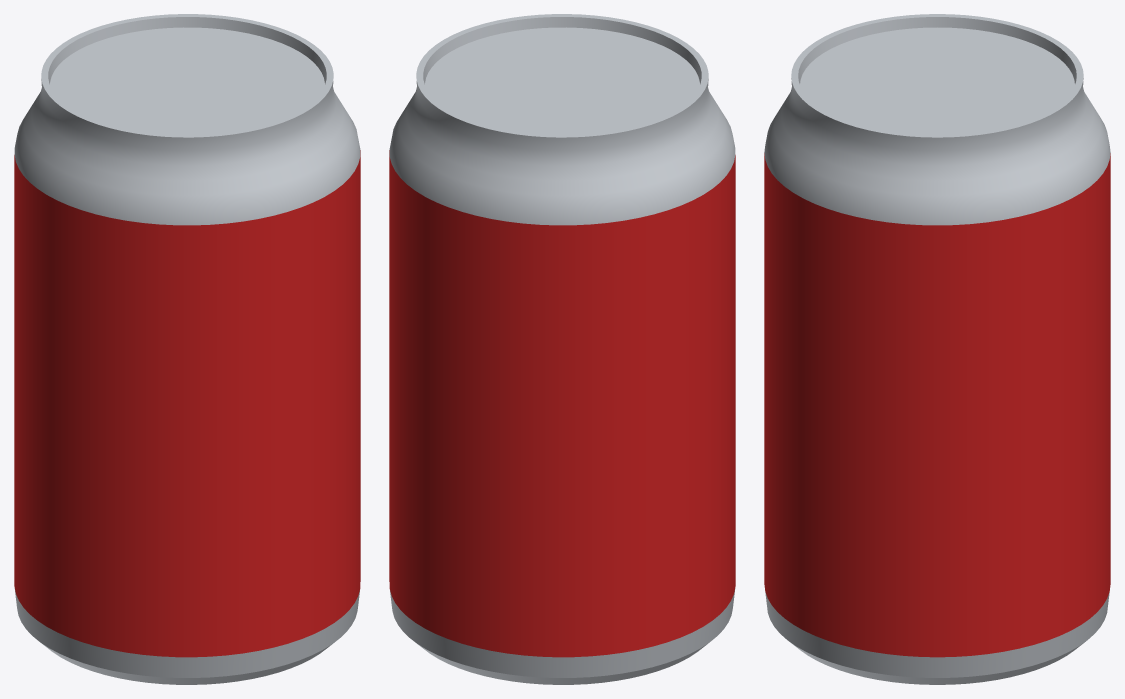
The model's file is drinks-can.glb.
3 renders of one model, left to right at view 1: azimuth 30°, elevation 25°; view 2: azimuth 150°, elevation 25°; view 3: azimuth 270°, elevation 25°, orthographic.
Parts seen in each view (by area): view 1: Body, Top, Bottom; view 2: Body, Top, Bottom; view 3: Body, Top, Bottom.
Part boxes in pixels (x1,y1,x2,y2): Body: (14,150,360,657); Top: (14,14,360,225); Bottom: (14,588,359,684); Body: (389,150,735,657); Top: (389,14,735,225); Bottom: (390,588,735,684); Body: (764,153,1110,657); Top: (764,14,1110,225); Bottom: (765,592,1109,684).
Size of the model in its own units: 0.066 by 0.115 by 0.066.
